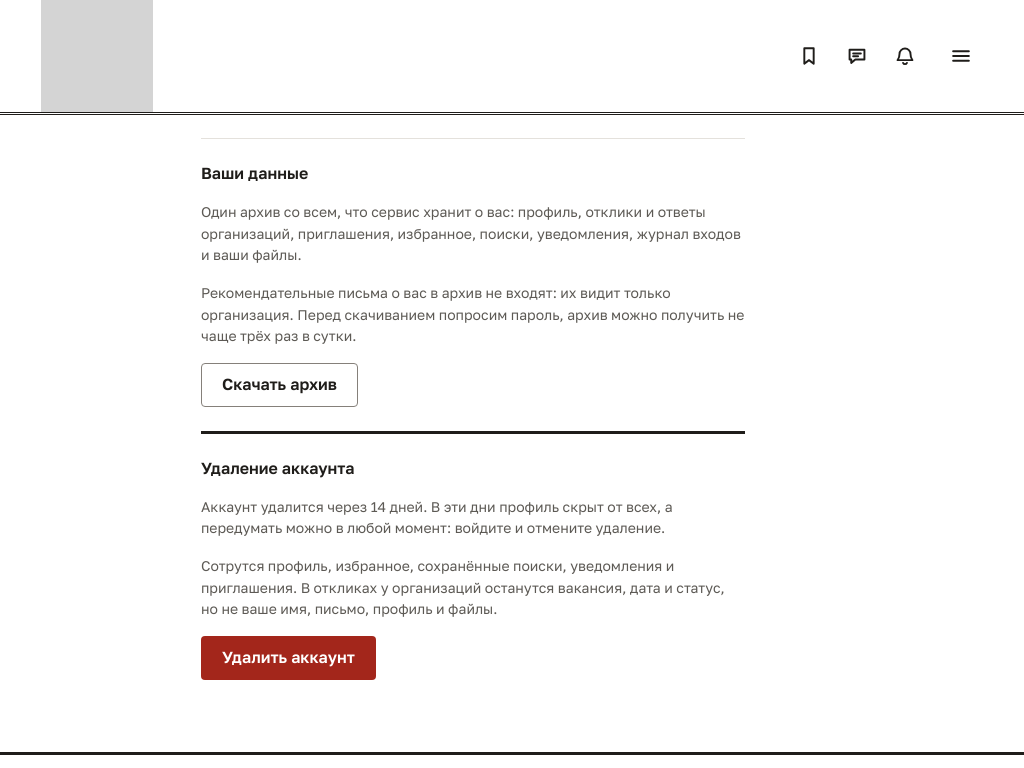
Test case: download of own data › save the archive under the name the server gave and say so
The width and height of the screenshot is (1024, 768).
(page scrolled)
What coordinates should you click on to do the following:
click the button "Скачать архив"
I would click on:
 (280, 385)
Its box is [201, 363, 358, 407].
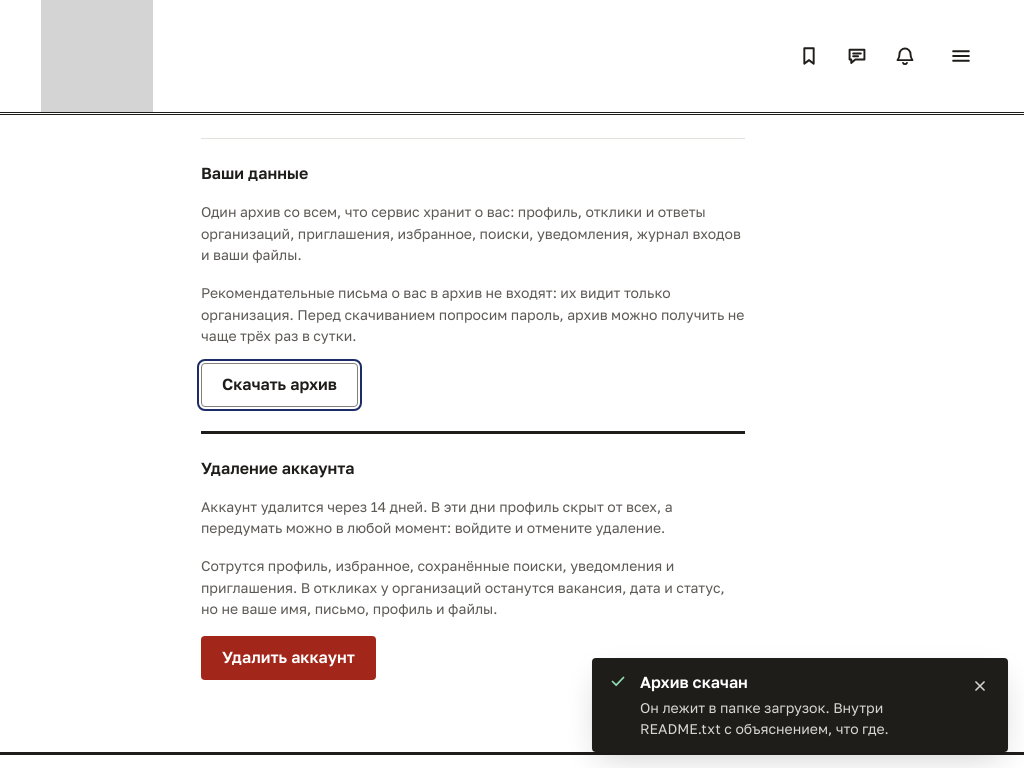
Now the text "Архив скачан" is shown, box [640, 672, 748, 692]
